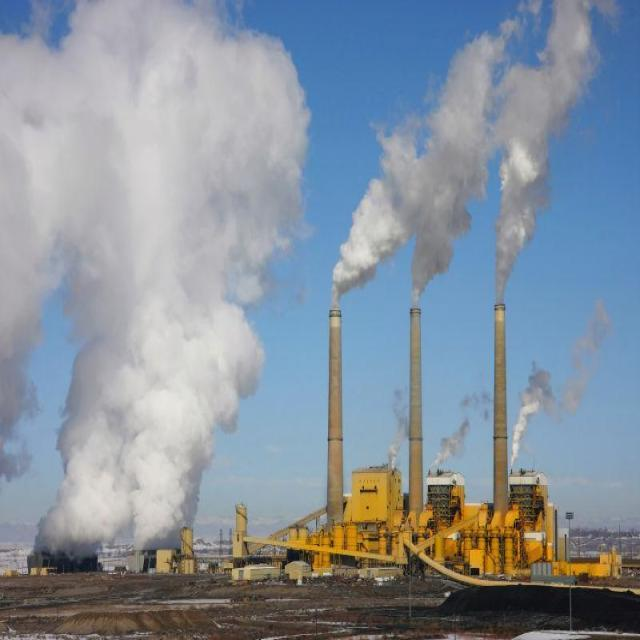Smoke: (2, 0, 308, 552), (330, 1, 596, 308), (508, 377, 590, 475), (429, 420, 472, 472), (388, 392, 412, 467)
